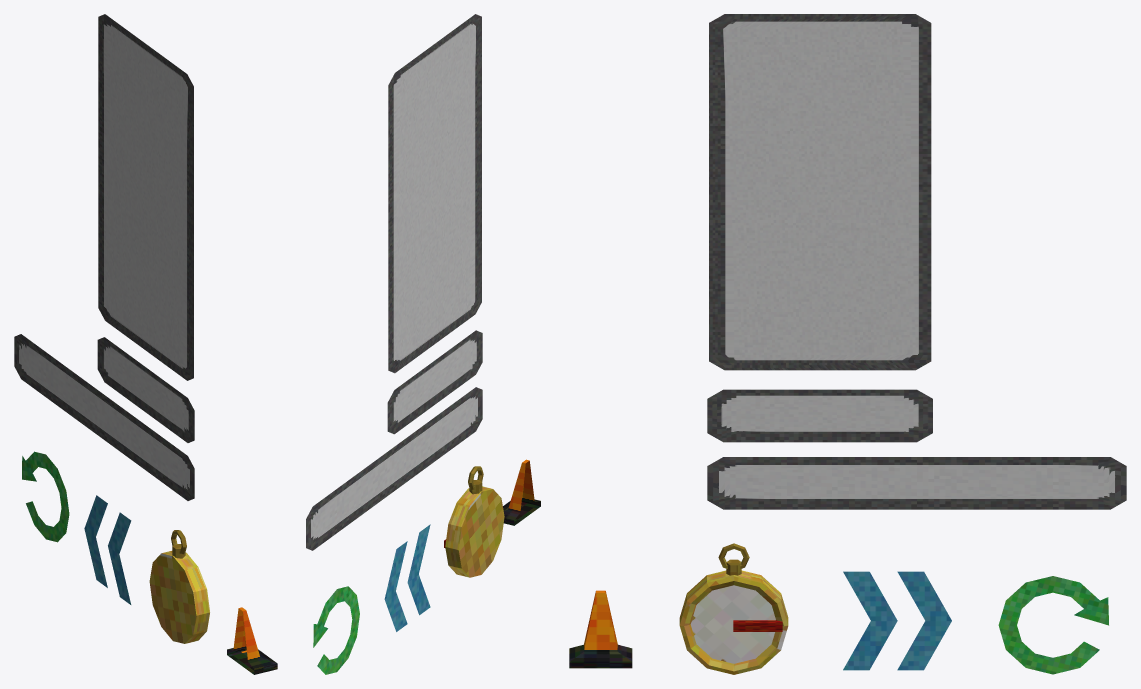
3 renders of one model, left to right at view 1: azimuth 30°, elevation 25°; view 2: azimuth 150°, elevation 25°; view 3: azimuth 270°, elevation 25°, orthographic. The views are drawn at different scales.
Visible parts, largest first — view 1: Cube.004, Cube.005, Cube.003, Cylinder, Cube.001, Cylinder.001, Cube.002; view 2: Cube.004, Cube.005, Cube.003, Cylinder, Cube.001, Cylinder.001, Cube.002; view 3: Cube.004, Cube.005, Cube.003, Cylinder, Cube.001, Cylinder.001, Cube.002.
Boxes of the visible parts, x1=… form: Cube.004: x1=98, y1=14, x2=193, y2=380; Cube.005: x1=14, y1=334, x2=194, y2=500; Cube.003: x1=97, y1=337, x2=194, y2=442; Cylinder: x1=149, y1=551, x2=209, y2=643; Cube.001: x1=84, y1=495, x2=131, y2=604; Cylinder.001: x1=22, y1=451, x2=69, y2=542; Cube.002: x1=227, y1=607, x2=277, y2=674; Cube.004: x1=388, y1=14, x2=481, y2=373; Cube.005: x1=306, y1=387, x2=482, y2=550; Cube.003: x1=387, y1=330, x2=482, y2=434; Cylinder: x1=445, y1=486, x2=504, y2=577; Cube.001: x1=384, y1=524, x2=430, y2=631; Cylinder.001: x1=313, y1=586, x2=359, y2=674; Cube.002: x1=503, y1=459, x2=540, y2=525; Cube.004: x1=709, y1=14, x2=931, y2=370; Cube.005: x1=707, y1=457, x2=1126, y2=509; Cube.003: x1=707, y1=389, x2=932, y2=442; Cylinder: x1=679, y1=570, x2=788, y2=674; Cube.001: x1=843, y1=571, x2=951, y2=670; Cylinder.001: x1=998, y1=576, x2=1108, y2=674; Cube.002: x1=569, y1=590, x2=632, y2=668.
Size of the model in its own units: 0.8328 by 13.4 by 10.24.
Materials: 9 (9 with a texture image).
